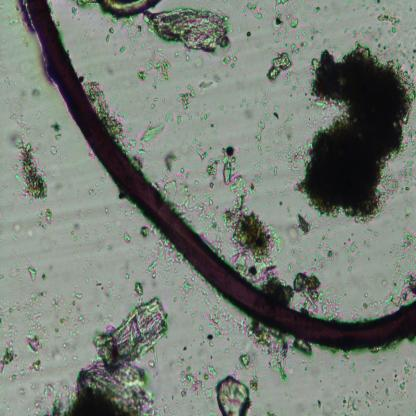Background material: (298, 48, 416, 235), (66, 294, 184, 416), (197, 136, 249, 244), (268, 0, 334, 82), (142, 4, 231, 64), (225, 204, 288, 288), (0, 291, 51, 378), (7, 124, 56, 204), (380, 225, 416, 314), (86, 73, 132, 139), (152, 148, 200, 206), (291, 267, 334, 318), (250, 332, 292, 380), (52, 291, 85, 352), (200, 299, 242, 346), (180, 358, 218, 402), (216, 375, 252, 416), (146, 240, 176, 288), (279, 206, 309, 252), (249, 107, 266, 188), (33, 380, 71, 416), (138, 53, 173, 90), (310, 225, 336, 269), (269, 144, 309, 172), (336, 234, 361, 278), (390, 358, 411, 399), (336, 22, 378, 42), (142, 116, 168, 147), (122, 16, 144, 52), (174, 81, 198, 114), (127, 135, 148, 165), (262, 178, 294, 196), (179, 282, 200, 309), (236, 0, 262, 20), (343, 387, 361, 414), (381, 12, 401, 36), (68, 0, 101, 14), (10, 107, 28, 132), (256, 86, 274, 110), (36, 204, 52, 230), (220, 50, 241, 68), (7, 261, 25, 279), (6, 15, 28, 29), (92, 274, 107, 292), (250, 370, 260, 396), (28, 264, 42, 282), (132, 276, 144, 297), (51, 120, 63, 140), (240, 352, 253, 370), (362, 290, 373, 311), (139, 226, 151, 244), (107, 281, 119, 299), (87, 180, 101, 195), (104, 28, 117, 44), (230, 360, 244, 374), (118, 228, 132, 241), (2, 75, 14, 90), (339, 350, 350, 365), (50, 146, 62, 159), (25, 378, 37, 391), (31, 108, 44, 120), (12, 222, 24, 235), (176, 354, 187, 368), (174, 112, 184, 126), (218, 102, 230, 113), (117, 42, 129, 53), (67, 230, 78, 242), (364, 390, 376, 401), (302, 359, 313, 371), (244, 28, 255, 39), (24, 228, 34, 240), (1, 181, 10, 194), (398, 41, 405, 57), (199, 112, 210, 122), (148, 357, 158, 368), (31, 89, 42, 97), (18, 90, 28, 98), (350, 361, 357, 372), (364, 400, 372, 409), (344, 0, 351, 10), (207, 409, 217, 416), (376, 399, 384, 407), (328, 364, 336, 372), (340, 410, 350, 416), (74, 221, 82, 228), (40, 272, 47, 280), (18, 386, 24, 395), (362, 4, 370, 10), (181, 344, 189, 350), (316, 399, 322, 407), (381, 376, 386, 385), (385, 387, 390, 396), (266, 411, 275, 416), (333, 410, 340, 416), (104, 206, 109, 214), (86, 275, 91, 283), (74, 356, 80, 362), (397, 402, 404, 407), (368, 368, 375, 373), (0, 275, 5, 282), (409, 6, 413, 14), (374, 0, 380, 5), (197, 410, 202, 416), (77, 187, 81, 194), (107, 243, 111, 250), (13, 236, 18, 241), (374, 7, 380, 11), (176, 400, 180, 406), (5, 216, 10, 220), (126, 275, 130, 280), (86, 260, 91, 264), (382, 356, 387, 360), (374, 384, 377, 390), (382, 7, 386, 11), (378, 360, 382, 364), (386, 404, 389, 409), (8, 405, 10, 411), (388, 398, 391, 402), (319, 380, 322, 383), (322, 388, 325, 391), (337, 395, 339, 398), (412, 366, 415, 368), (376, 379, 378, 382), (397, 414, 400, 416), (415, 410, 416, 414)
Diatom: (100, 0, 155, 17)
Microfibre: (27, 0, 416, 350)
